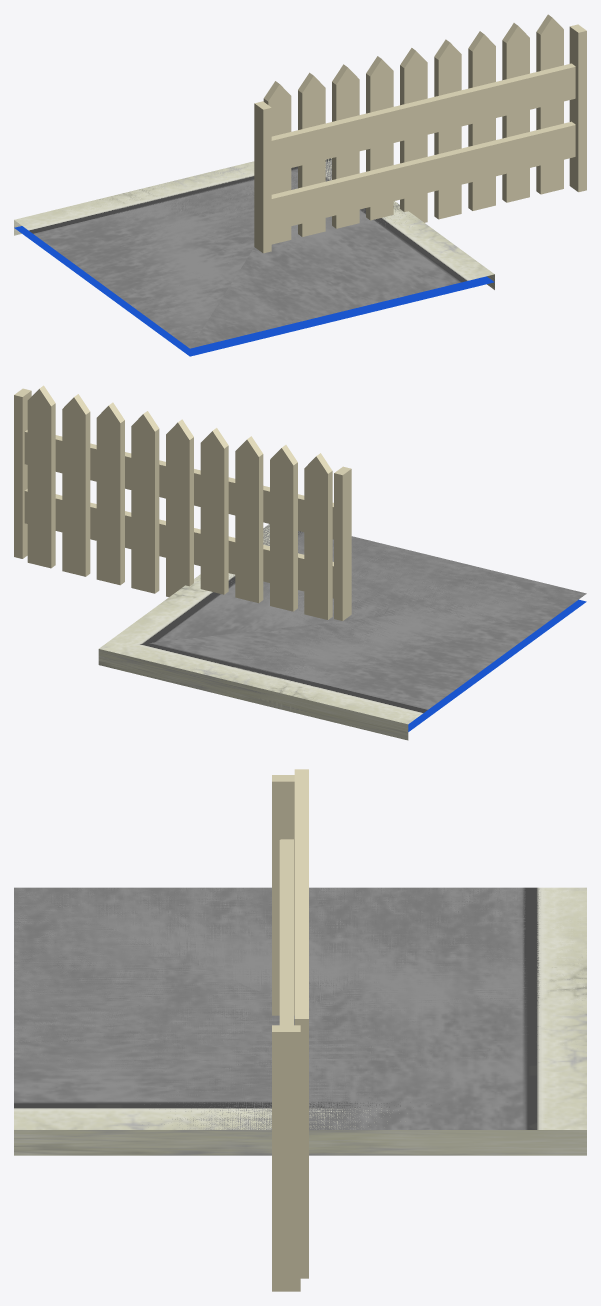
The model's file is see_through_features.glb.
The picture shows the model from 3 angles, top to bottom: view 1: azimuth 30°, elevation 25°; view 2: azimuth 150°, elevation 25°; view 3: azimuth 270°, elevation 25°; orthographic projection. The views are drawn at different scales.
Parts seen in each view (by area): view 1: fence, pool_corner_edge, pool_straight, pool_water; view 2: fence, pool_straight, pool_corner_edge, pool_water; view 3: pool_straight, pool_corner_edge, fence.
Part boxes in pixels (x1=…): fence: x1=254, y1=14, x2=586, y2=253; pool_corner_edge: x1=14, y1=158, x2=494, y2=348; pool_straight: x1=14, y1=158, x2=399, y2=336; pool_water: x1=14, y1=226, x2=494, y2=356; fence: x1=14, y1=385, x2=351, y2=620; pool_straight: x1=98, y1=524, x2=586, y2=724; pool_corner_edge: x1=99, y1=524, x2=581, y2=740; pool_water: x1=408, y1=599, x2=586, y2=731; pool_straight: x1=14, y1=887, x2=586, y2=1129; pool_corner_edge: x1=14, y1=887, x2=586, y2=1155; fence: x1=272, y1=769, x2=308, y2=1291.
Size of what is drawn, in the model's own units: 3.12 by 1.09 by 2.
3 materials, 1 textured.
